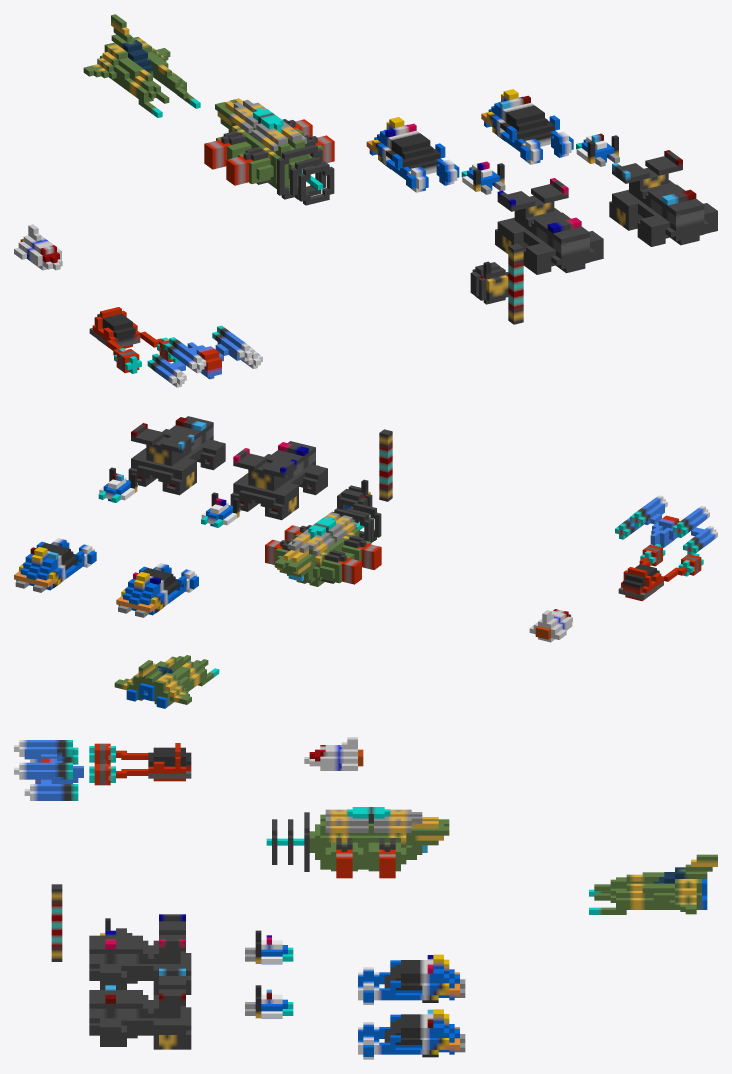
Rendered from ships_test.dae.
3 views of the same model, one above another, from view 1: azimuth 30°, elevation 25°; view 2: azimuth 150°, elevation 25°; view 3: azimuth 270°, elevation 25° (orthographic). The views are drawn at different scales.
Parts seen in each view (by area): view 1: army_laser_ship, swat_ship_1, swat_ship, army_jet_fighter, police_ship, police_ship_1, blue_high, red_arms, swat_bomb_drone, Matrix, swat_barricade, police_drone (+1 smaller); view 2: army_laser_ship, swat_ship_1, swat_ship, army_jet_fighter, blue_high, police_ship_1, police_ship, red_arms, Matrix, swat_barricade, police_drone, police_drone_1 (+1 smaller); view 3: army_laser_ship, swat_ship_1, swat_ship, army_jet_fighter, police_ship, police_ship_1, blue_high, red_arms, Matrix, police_drone, police_drone_1, swat_barricade.
Boxes of the visible parts, left/top/right/bottom form: army_laser_ship: left=204, top=98, right=334, bottom=205; swat_ship_1: left=609, top=150, right=717, bottom=246; swat_ship: left=495, top=178, right=603, bottom=274; army_jet_fighter: left=83, top=14, right=200, bottom=117; police_ship: left=366, top=117, right=459, bottom=192; police_ship_1: left=481, top=89, right=573, bottom=164; blue_high: left=147, top=325, right=262, bottom=387; red_arms: left=89, top=307, right=179, bottom=373; swat_bomb_drone: left=470, top=261, right=508, bottom=304; Matrix: left=14, top=224, right=62, bottom=270; swat_barricade: left=508, top=243, right=523, bottom=324; police_drone: left=461, top=161, right=505, bottom=194; army_laser_ship: left=265, top=503, right=381, bottom=586; swat_ship_1: left=128, top=416, right=225, bottom=495; swat_ship: left=230, top=441, right=327, bottom=520; army_jet_fighter: left=114, top=655, right=219, bottom=708; blue_high: left=615, top=495, right=717, bottom=554; police_ship_1: left=14, top=538, right=96, bottom=592; police_ship: left=116, top=563, right=198, bottom=617; red_arms: left=618, top=544, right=703, bottom=601; Matrix: left=529, top=609, right=572, bottom=642; swat_barricade: left=379, top=429, right=392, bottom=501; police_drone: left=201, top=492, right=240, bottom=527; police_drone_1: left=98, top=467, right=137, bottom=502; army_laser_ship: left=266, top=807, right=449, bottom=878; swat_ship_1: left=89, top=968, right=191, bottom=1049; swat_ship: left=89, top=914, right=191, bottom=994; army_jet_fighter: left=589, top=854, right=717, bottom=914; police_ship: left=358, top=954, right=465, bottom=1004; police_ship_1: left=358, top=1009, right=465, bottom=1059; blue_high: left=14, top=740, right=83, bottom=800; red_arms: left=89, top=743, right=191, bottom=785; Matrix: left=304, top=737, right=363, bottom=770; police_drone: left=245, top=930, right=293, bottom=964; police_drone_1: left=245, top=985, right=293, bottom=1018; swat_barricade: left=51, top=884, right=62, bottom=961.
Size of the model in its own units: 125 by 22 by 131.
Materials: 1 (1 with a texture image).
